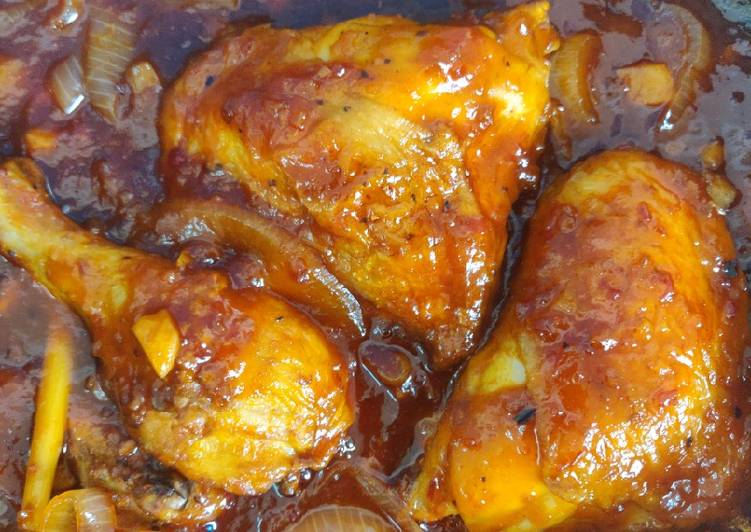Ayam: (114, 3, 597, 320), (1, 157, 360, 501), (463, 146, 747, 532)
